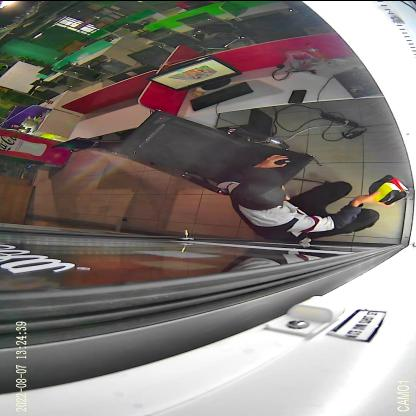red: (372, 174, 410, 204)
yellow: (368, 180, 402, 202)
